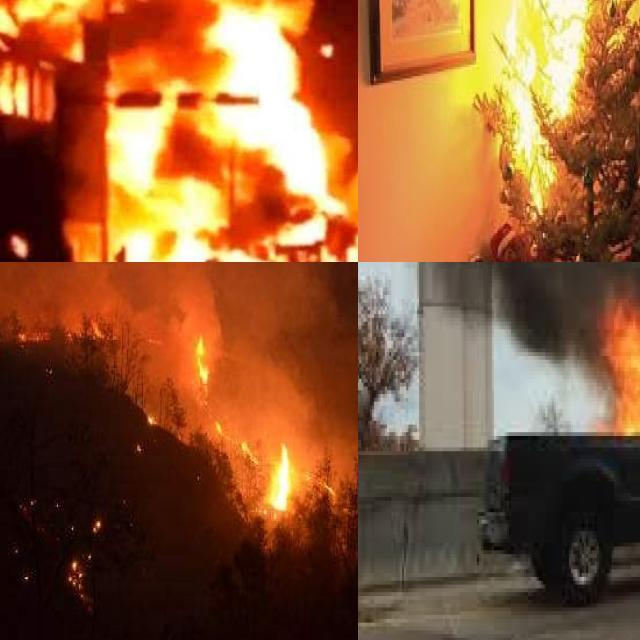fire: (0, 0, 358, 262), (496, 0, 632, 194), (579, 276, 640, 462), (257, 433, 288, 526), (188, 329, 213, 402)
smoke: (0, 262, 332, 473), (358, 262, 640, 356)
